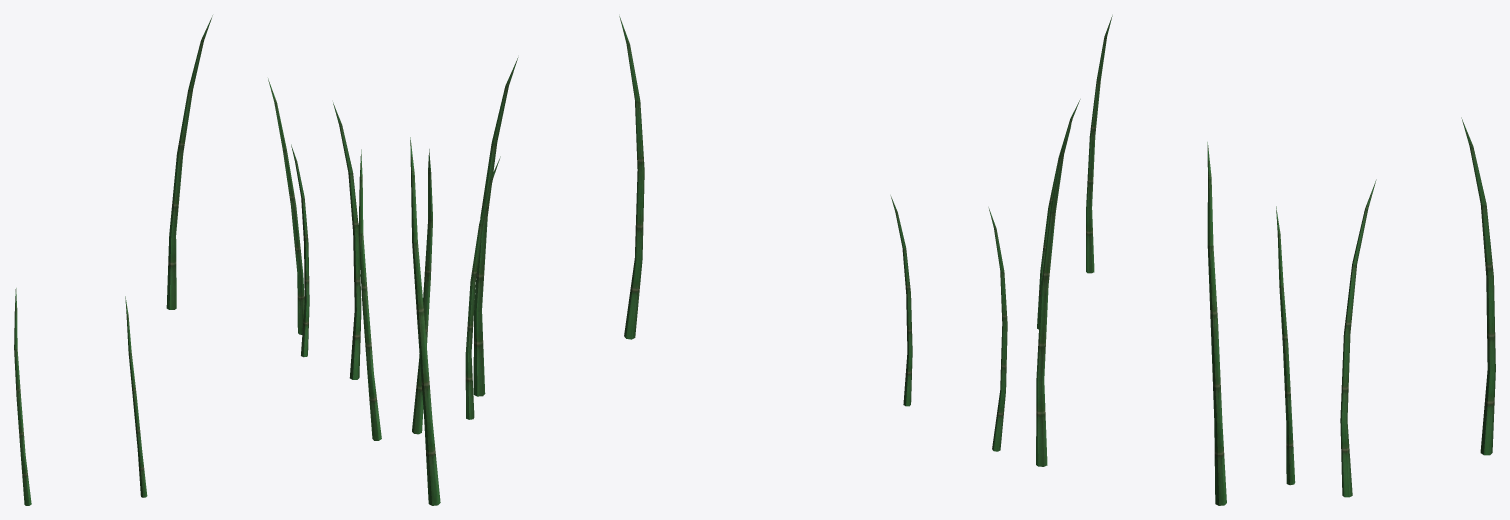
File: Area_03_5.fbx
3 renders of one model, left to right at view 1: azimuth 30°, elevation 25°; view 2: azimuth 150°, elevation 25°; view 3: azimuth 270°, elevation 25°, orthographic. The views are drawn at different scales.
Parts seen in each view (by area): view 1: Area_03_5; view 2: Area_03_5; view 3: Area_03_5.
Part boxes in pixels (x1,y1,x2,y2): Area_03_5: (14, 15, 381, 505); Area_03_5: (410, 16, 1007, 505); Area_03_5: (1036, 15, 1495, 505).
Bounding box in the file's own units: 3596 × 2614 × 3005.
